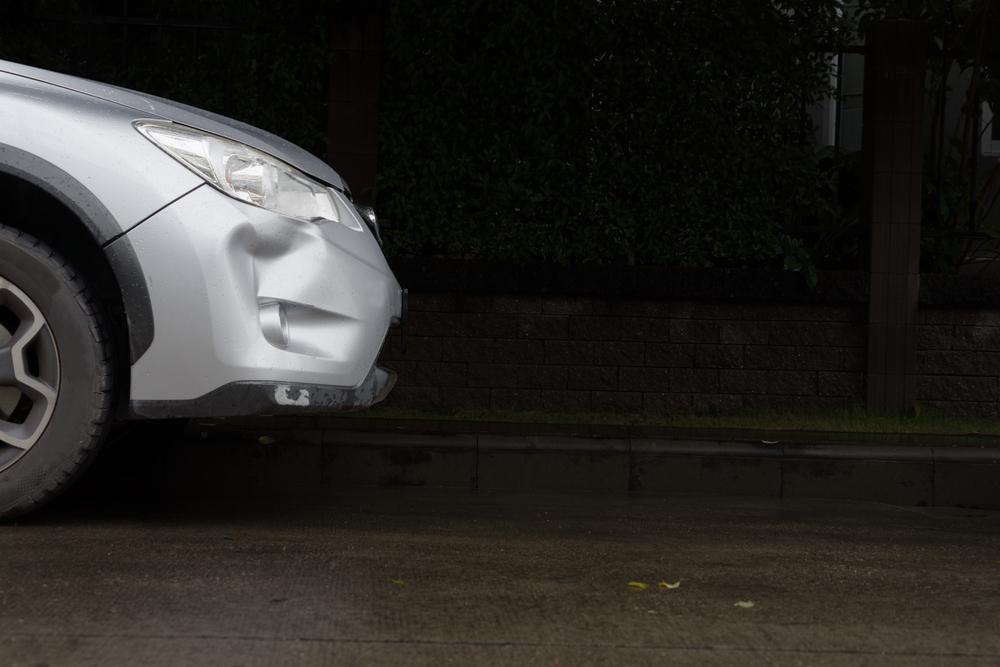dent: (226, 215, 327, 299)
scratch: (273, 381, 312, 408)
